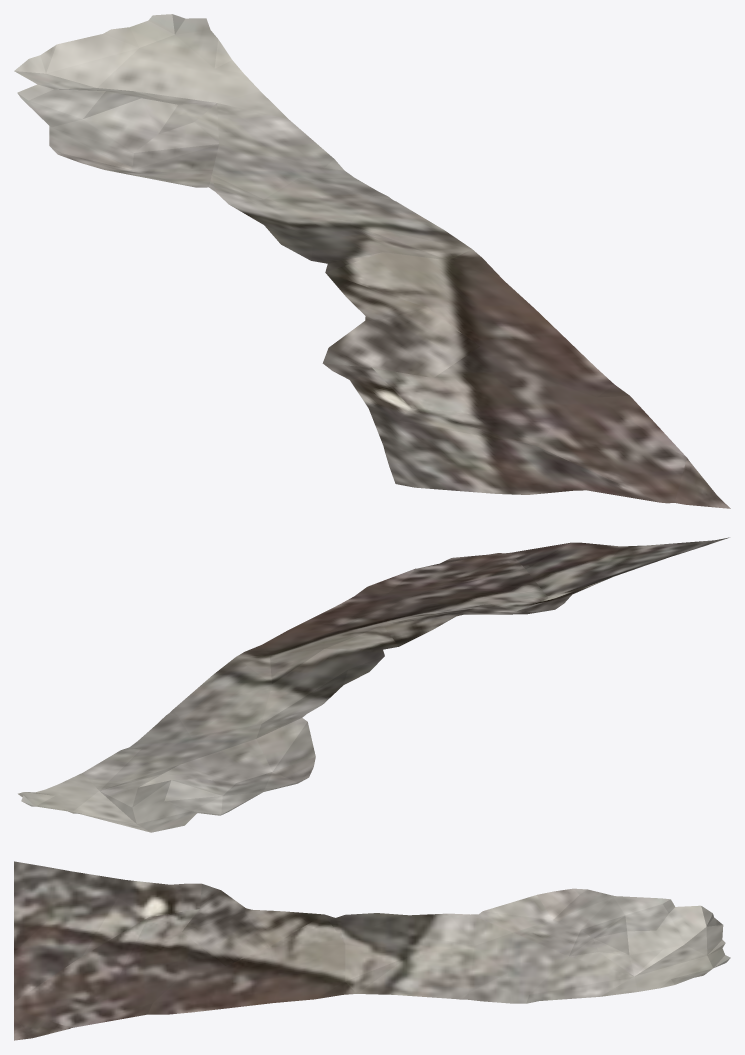
3 views of the same model, one above another, from view 1: azimuth 30°, elevation 25°; view 2: azimuth 150°, elevation 25°; view 3: azimuth 270°, elevation 25° (orthographic). The views are drawn at different scales.
Size of the model in its own units: 0.2928 by 0.089 by 0.8176.
1 material, 1 textured.
